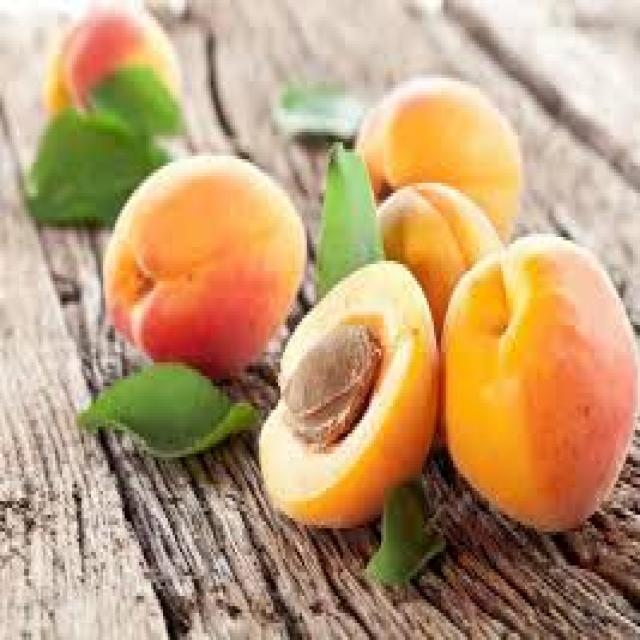Cekirdek: (280, 322, 381, 447)
Kayisi: (441, 234, 635, 528)
